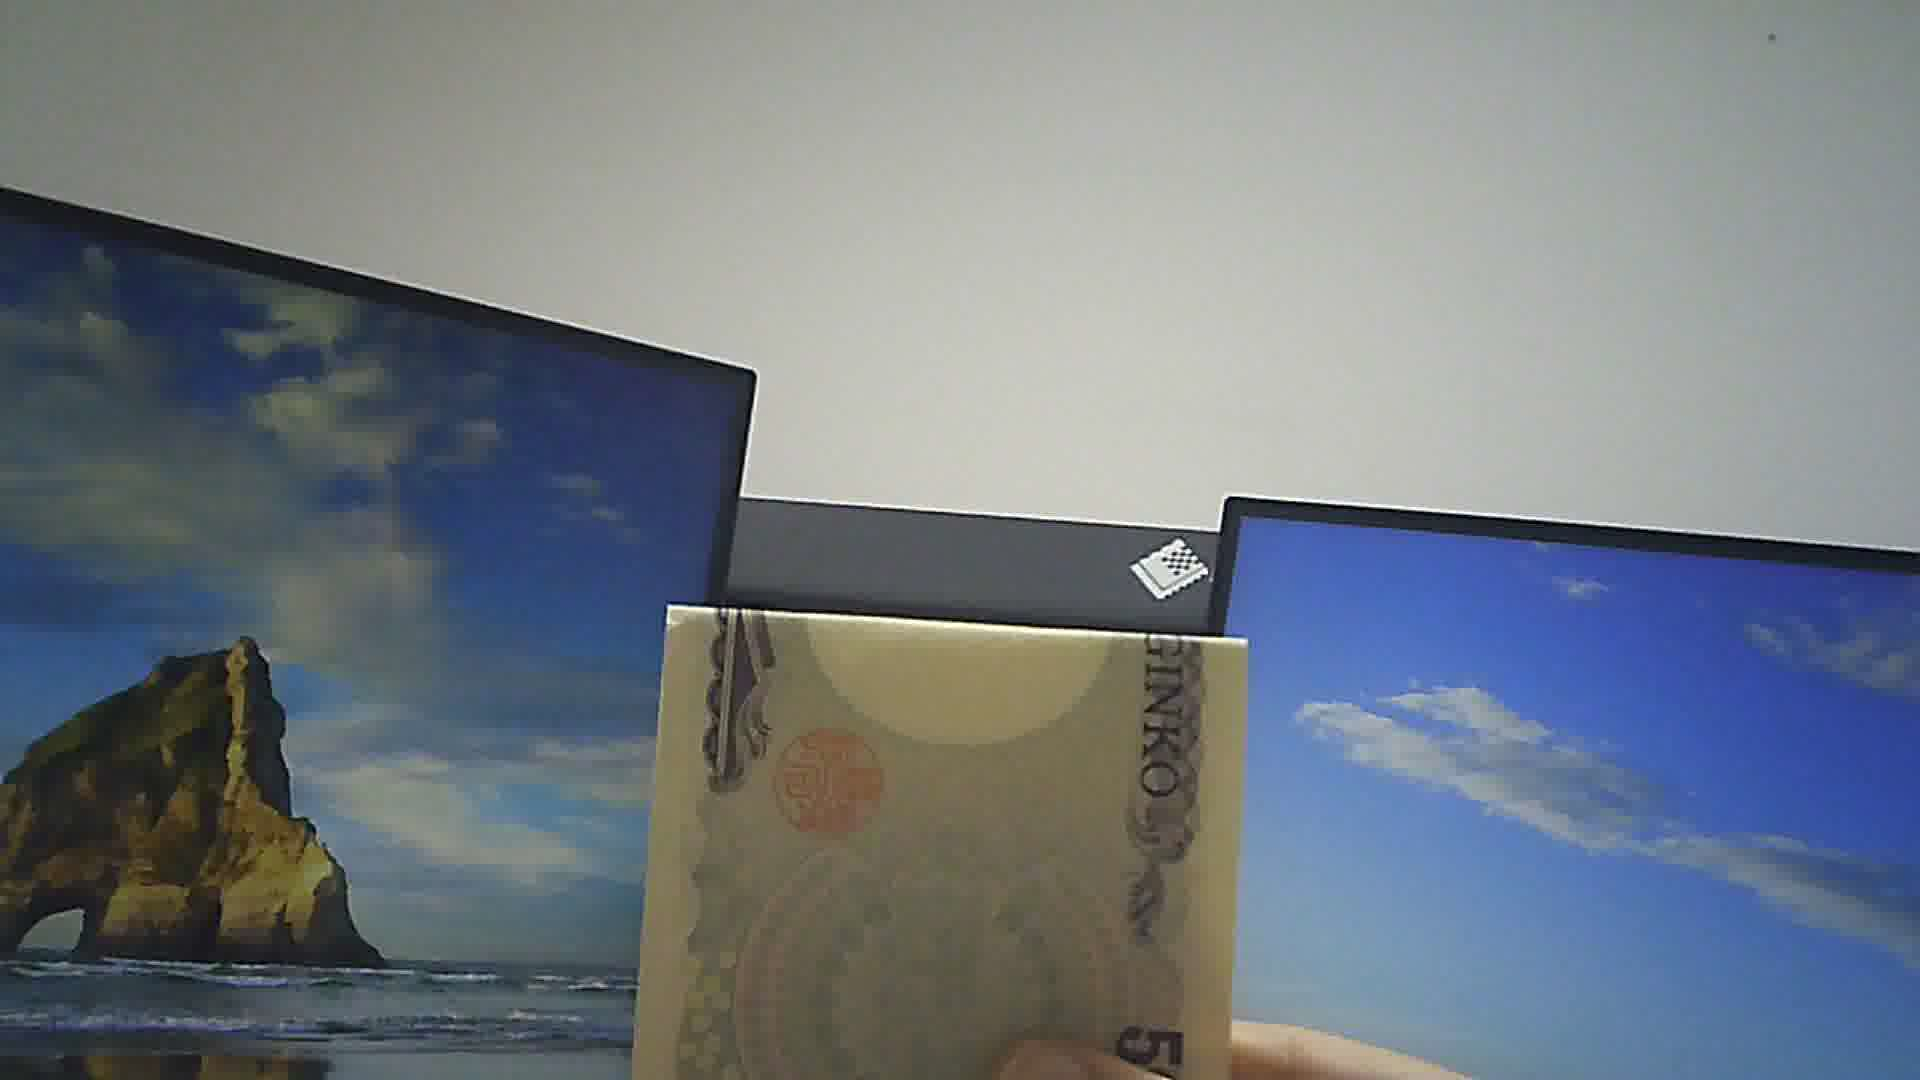5,000 Yen: (622, 582, 1249, 1079)
